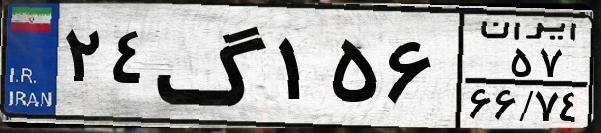1: (270, 28, 330, 110)
2: (57, 26, 110, 100)
4: (110, 28, 156, 98), (560, 70, 590, 125)
5: (330, 28, 385, 110), (508, 27, 537, 80)
6: (385, 28, 445, 110), (470, 70, 495, 125), (495, 70, 520, 125)
7: (537, 27, 568, 80), (535, 70, 560, 125)
گ: (156, 12, 270, 120)
